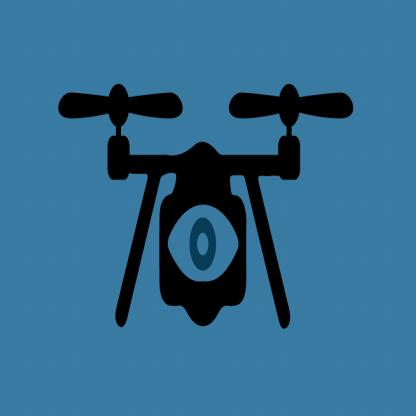drone: (54, 72, 386, 316)
